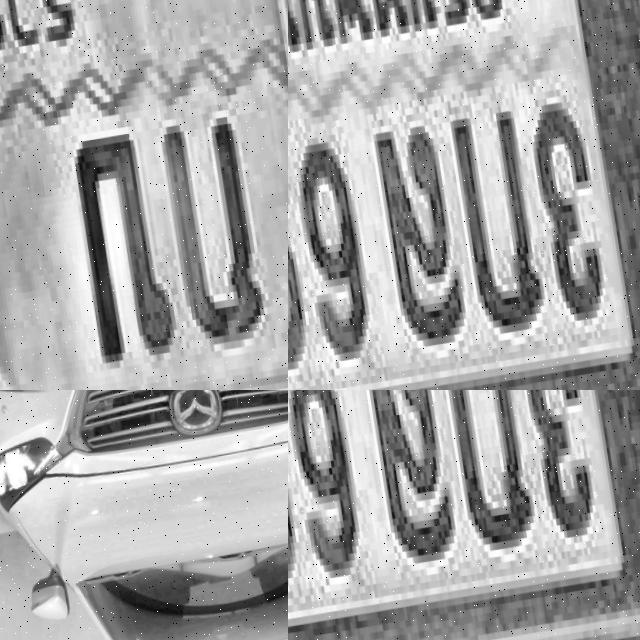license-plate: (288, 0, 640, 390), (0, 0, 288, 390), (288, 390, 640, 640)
